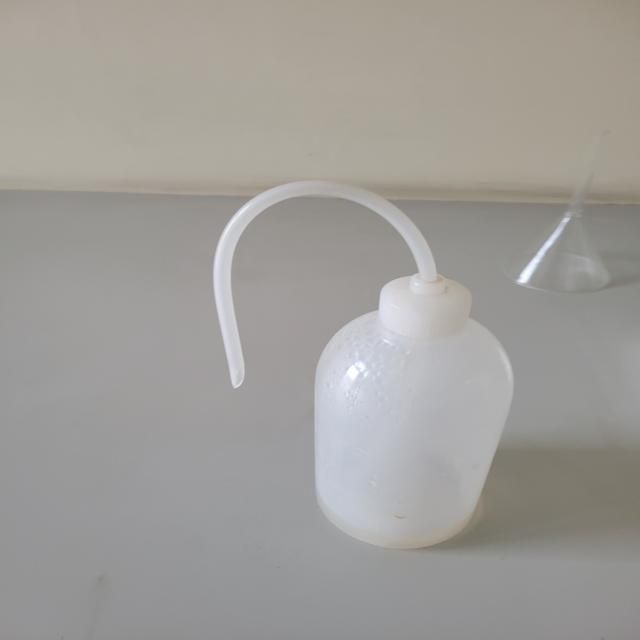Wash_Bottle: (140, 156, 541, 563)
